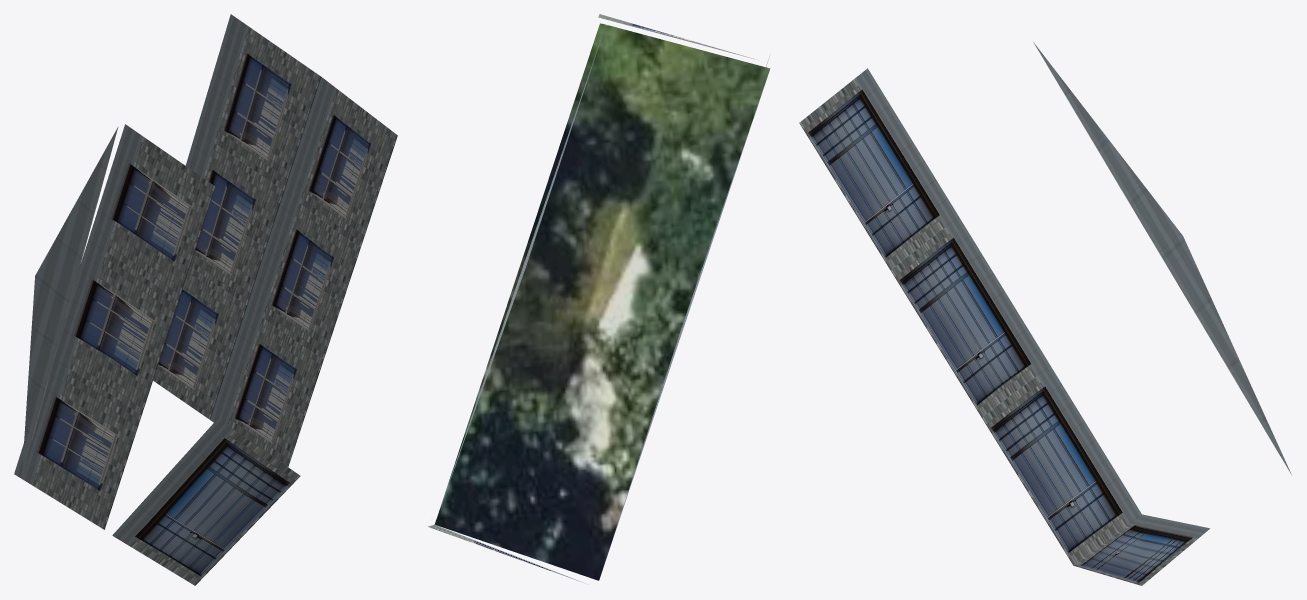
The model's file is tile_LOD4_r12_c15.glb.
3 views of the same model, side by side, from view 1: azimuth 30°, elevation 25°; view 2: azimuth 150°, elevation 25°; view 3: azimuth 270°, elevation 25° (orthographic). The views are drawn at different scales.
Bounding box in the file's own units: 10.75 × 21.5 × 18.
Materials: 5 (5 with a texture image).
